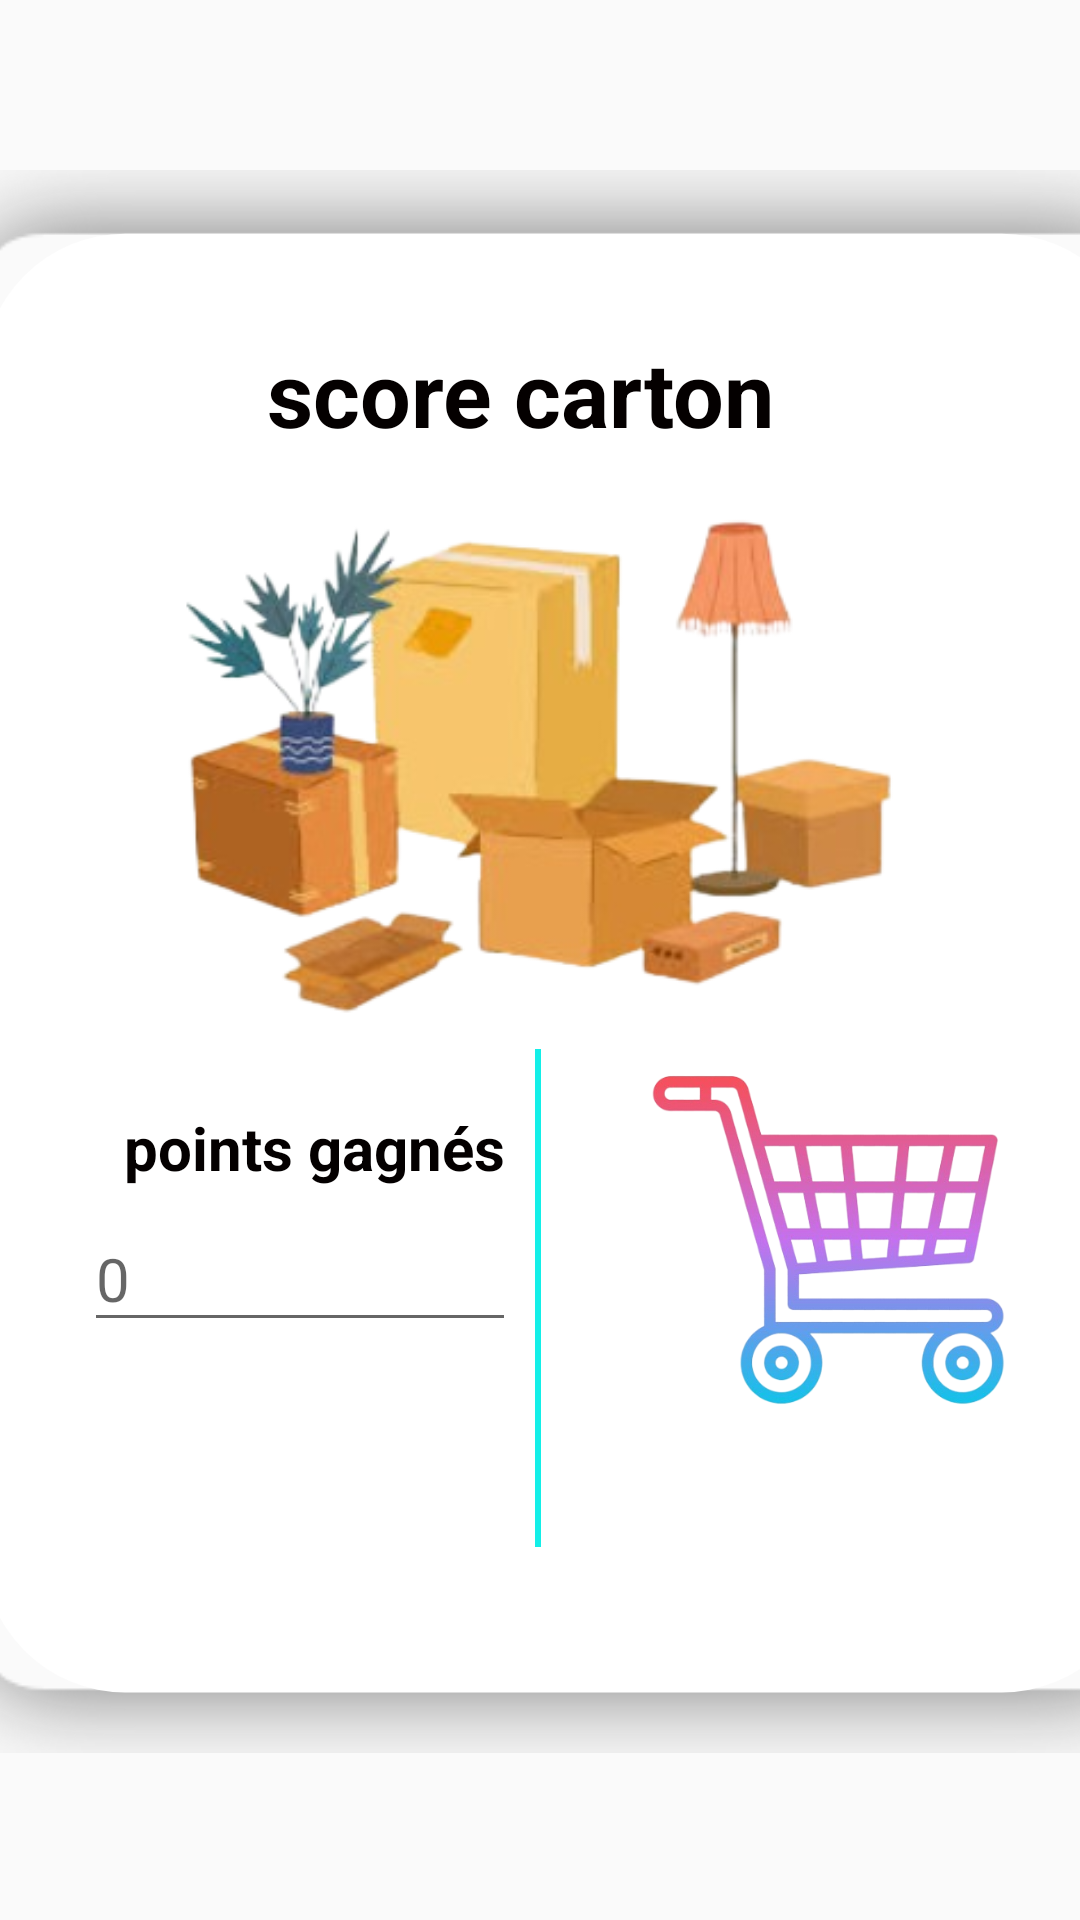

Icon bounding boxes for this 1080w x 1920h phone screenshot, format {"left": x1, "top": y1, "right": x2, "bottom": y2}:
shooping: {"left": 653, "top": 1076, "right": 1004, "bottom": 1404}
